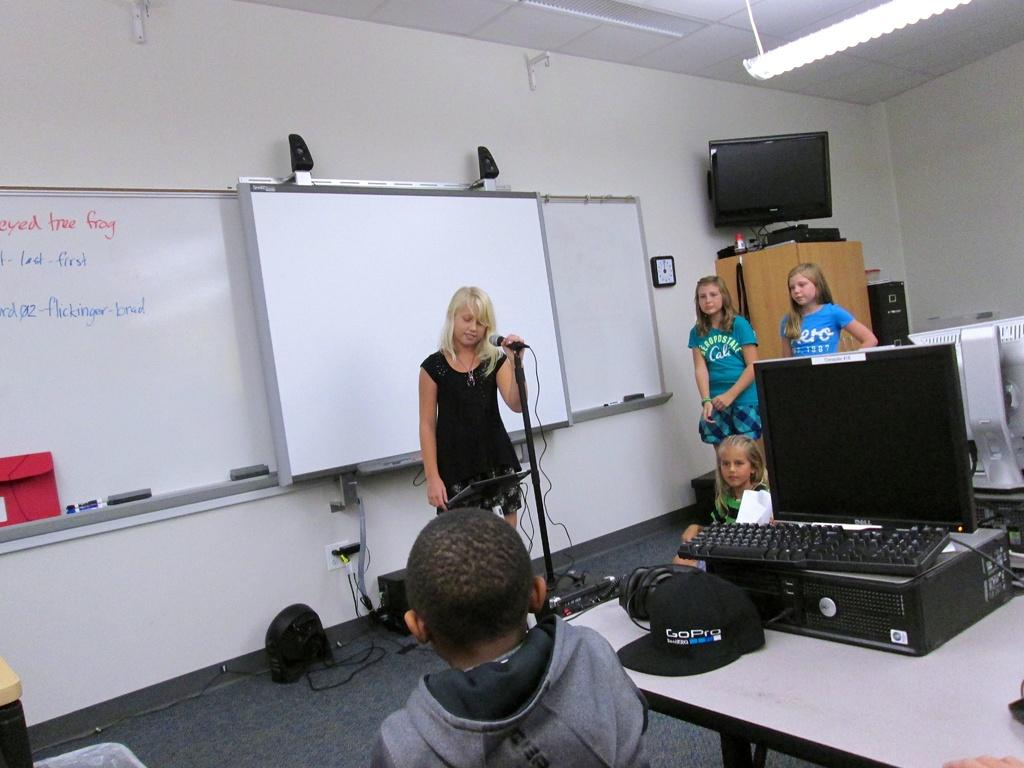Computer-monitor: (751, 342, 979, 554), (895, 314, 1023, 534)
